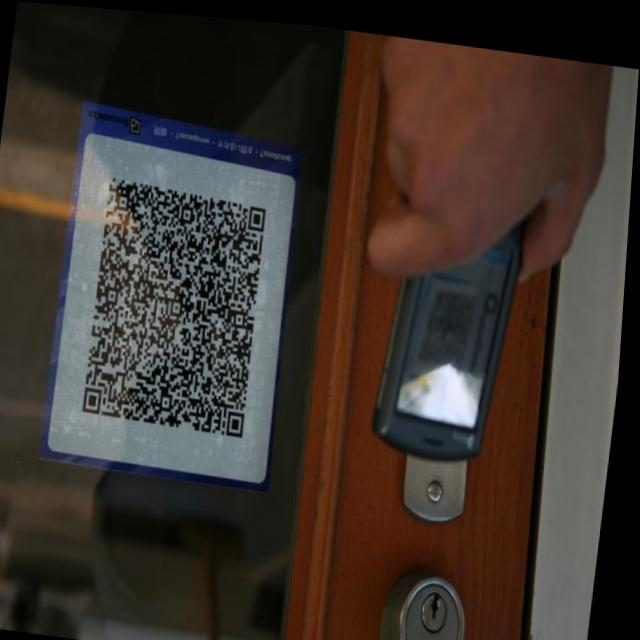qrcode: (88, 174, 274, 434)
